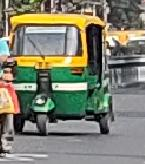Auto: (11, 11, 112, 137)
